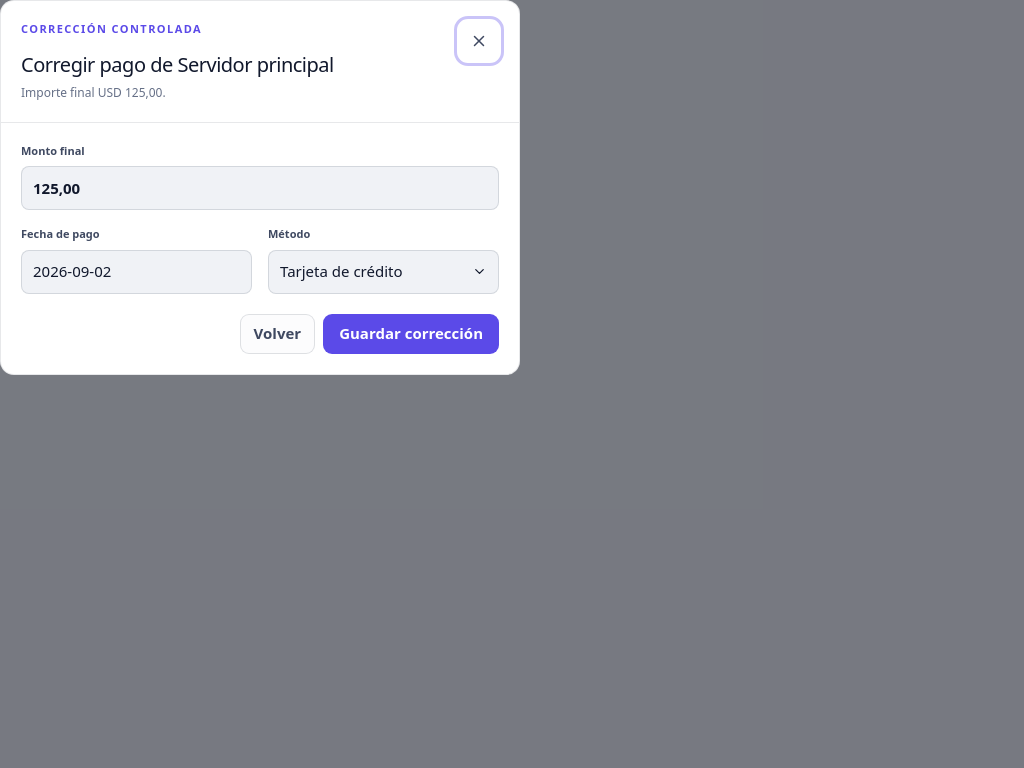
Test case: ExpensePaymentDialog › preserves card methods and presents paid-date errors inline
This screenshot has width=1024, height=768.
Expected: the dropdown named "Método de pago" reads "Tarjeta de crédito", [268,250,499,294]
Click the button "Guardar corrección": (411, 334) [323,314,499,354]
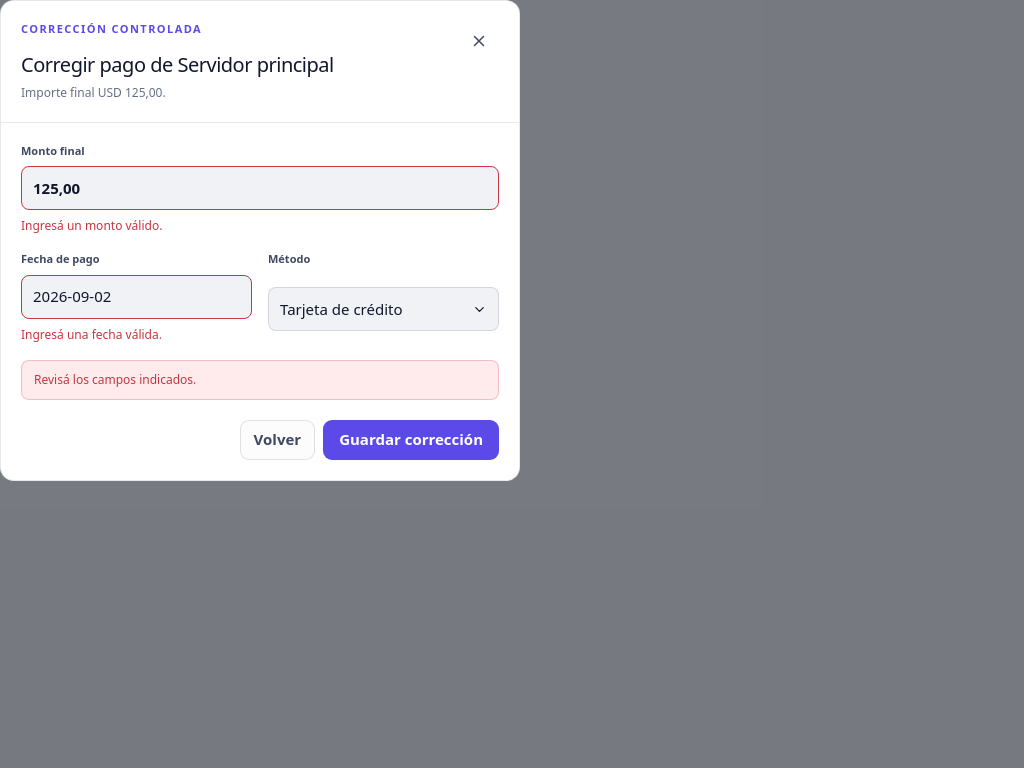
Expected: the text "Ingresá un monto válido." is shown, [21,217,162,234]
Expected: the text "Ingresá una fecha válida." is shown, [21,326,162,342]
